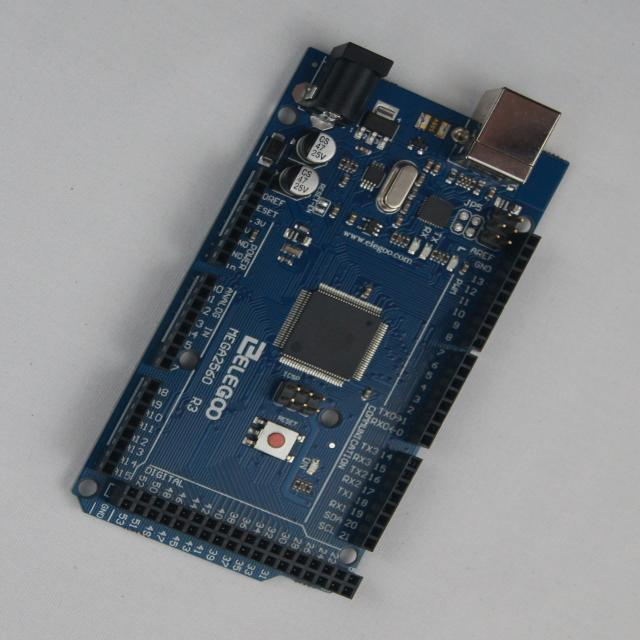Arduino Mega 2560 -Blue-: (75, 44, 566, 599)
